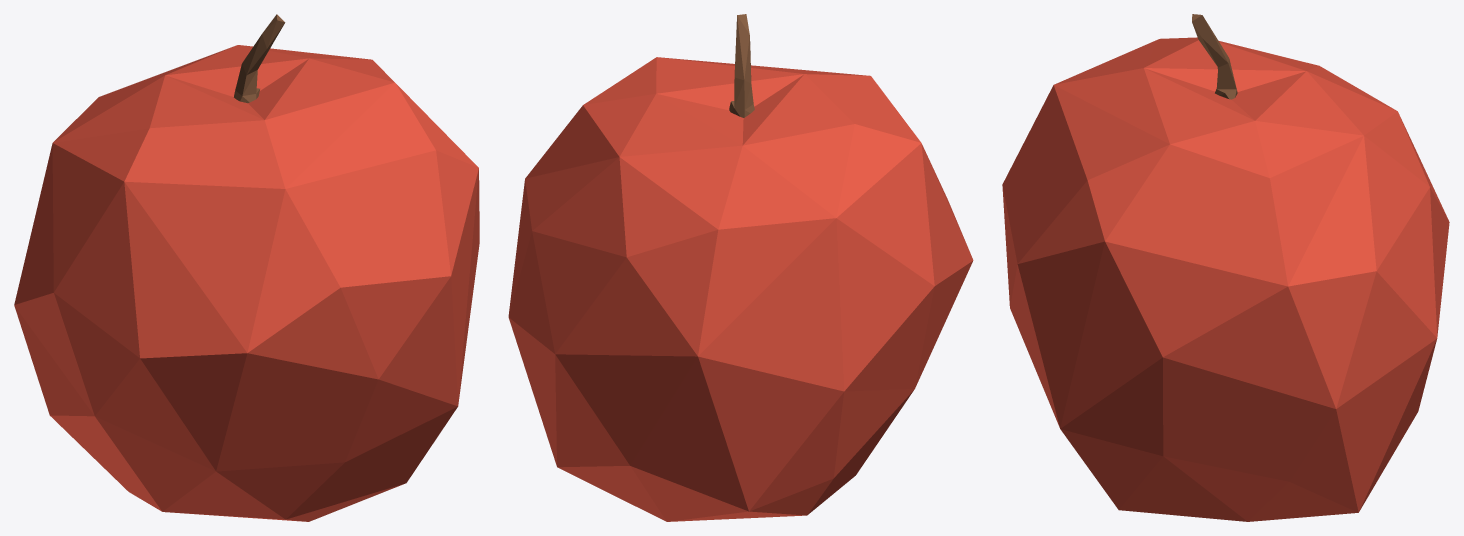
File: Manzanas.fbx
The picture shows the model from 3 angles, left to right: view 1: azimuth 30°, elevation 25°; view 2: azimuth 150°, elevation 25°; view 3: azimuth 270°, elevation 25°; orthographic projection. The views are drawn at different scales.
Visible parts, largest first — view 1: Low Poly Red Apple; view 2: Low Poly Red Apple; view 3: Low Poly Red Apple.
Part boxes in pixels (x1,y1,x2,y2): Low Poly Red Apple: [14, 14, 479, 521]; Low Poly Red Apple: [508, 14, 973, 521]; Low Poly Red Apple: [1002, 14, 1449, 521].
Size of the model in its own units: 67.94 by 80.16 by 66.77.
Materials: 1 (1 with a texture image).
